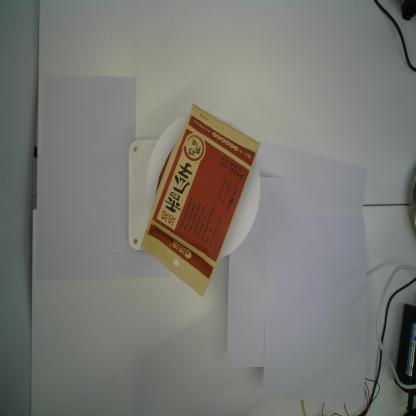Dried Food: (138, 101, 262, 299)
